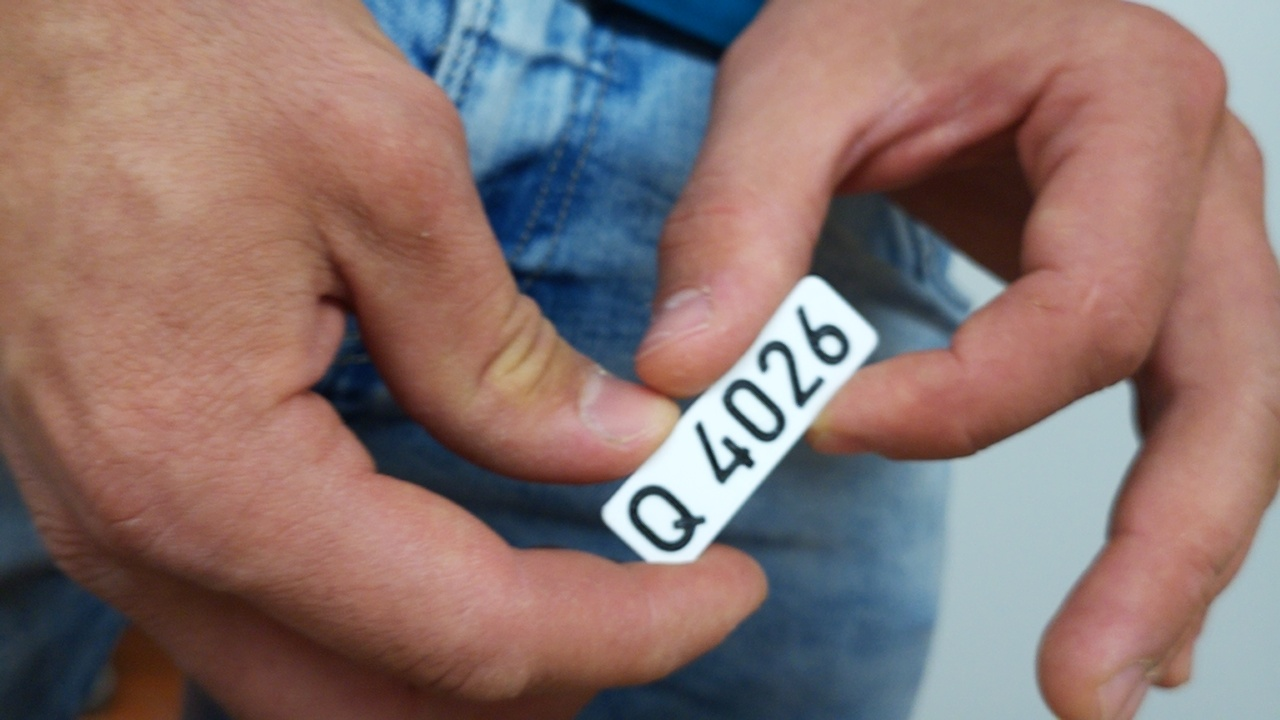license_plate: (599, 271, 883, 582)
